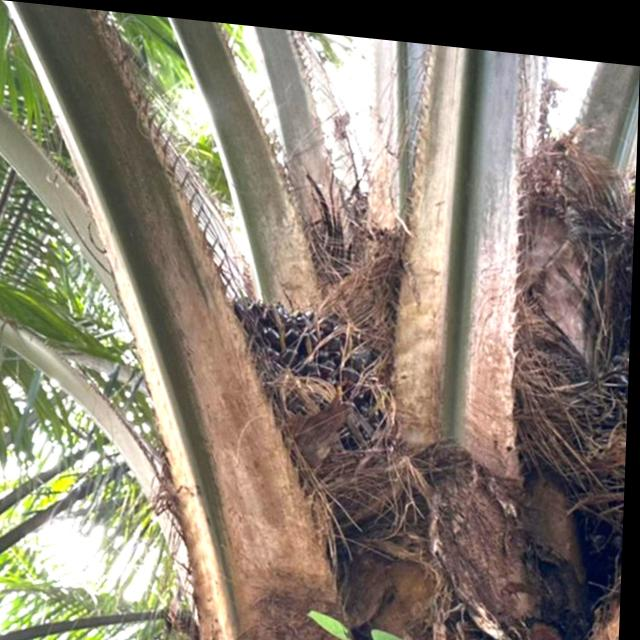almost: (225, 281, 391, 442)
